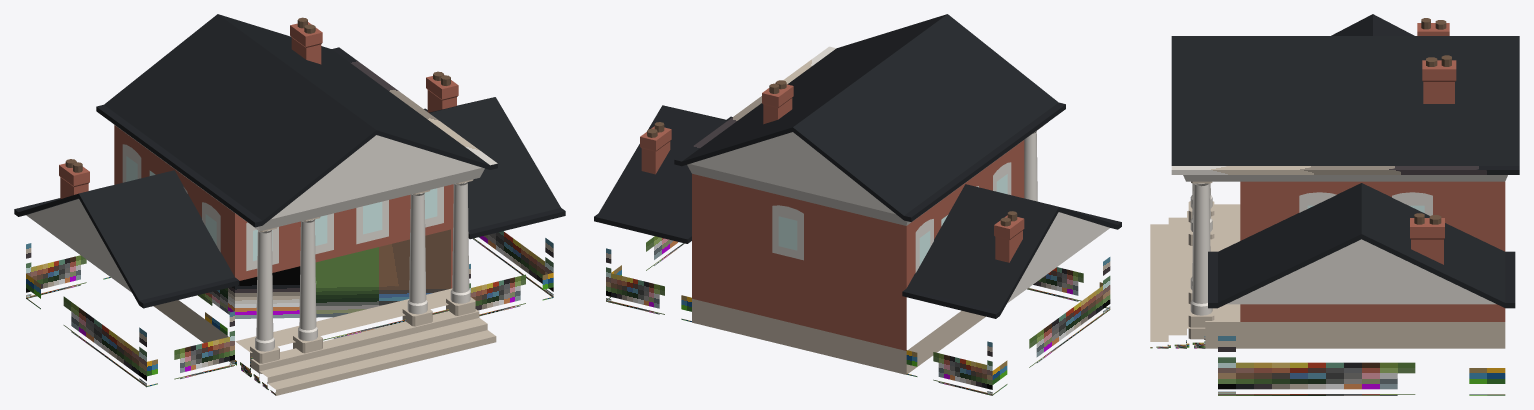
Rendered from town_hall_1.fbx.
3 renders of one model, left to right at view 1: azimuth 30°, elevation 25°; view 2: azimuth 150°, elevation 25°; view 3: azimuth 270°, elevation 25°, orthographic. The views are drawn at different scales.
Visible parts, largest first — view 1: ShopC15; view 2: ShopC15; view 3: ShopC15.
Boxes of the visible parts, left/top/right/bottom form: ShopC15: left=14, top=14, right=565, bottom=395; ShopC15: left=594, top=14, right=1121, bottom=395; ShopC15: left=1150, top=14, right=1519, bottom=395.
Bounding box in the file's own units: 2.81 × 1.55 × 1.99.
Materials: 1 (1 with a texture image).
